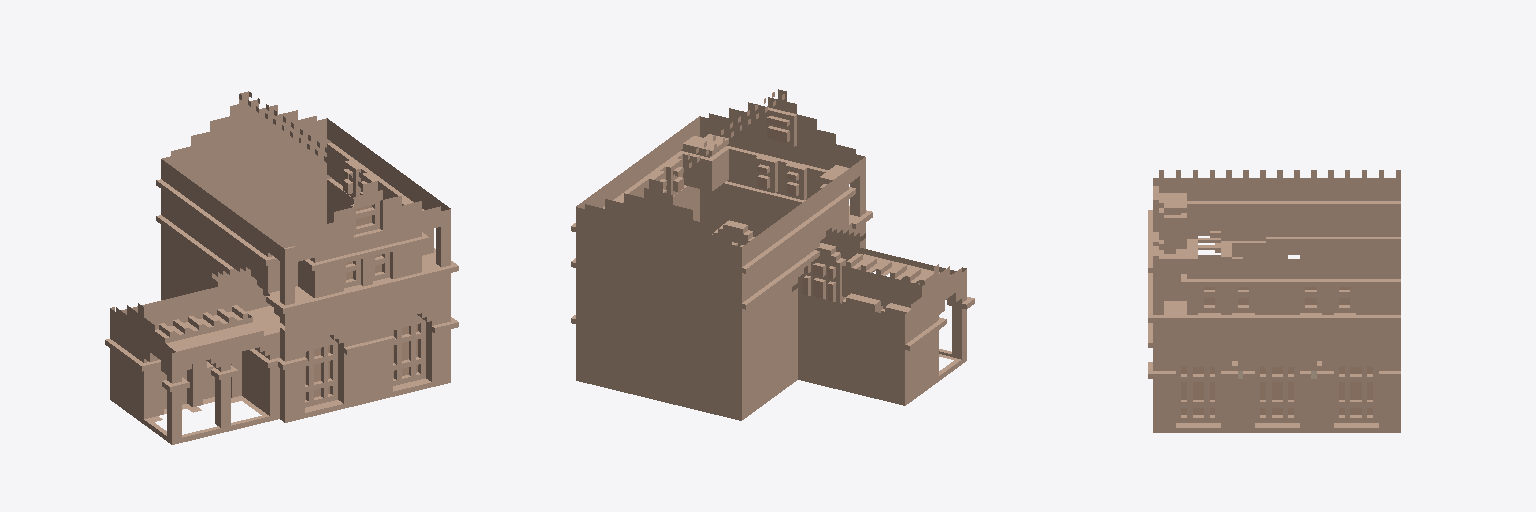
The picture shows the model from 3 angles: view 1: azimuth 30°, elevation 25°; view 2: azimuth 150°, elevation 25°; view 3: azimuth 270°, elevation 25°; orthographic projection.
Parts seen in each view (by area): view 1: tacos2; view 2: tacos2; view 3: tacos2.
Part boxes in pixels (left/top/right/bottom): tacos2: left=105, top=91, right=458, bottom=444; tacos2: left=571, top=89, right=974, bottom=420; tacos2: left=1148, top=170, right=1400, bottom=432.
Bounding box in the file's own units: 60 × 44 × 47.
1 materials, 1 textured.